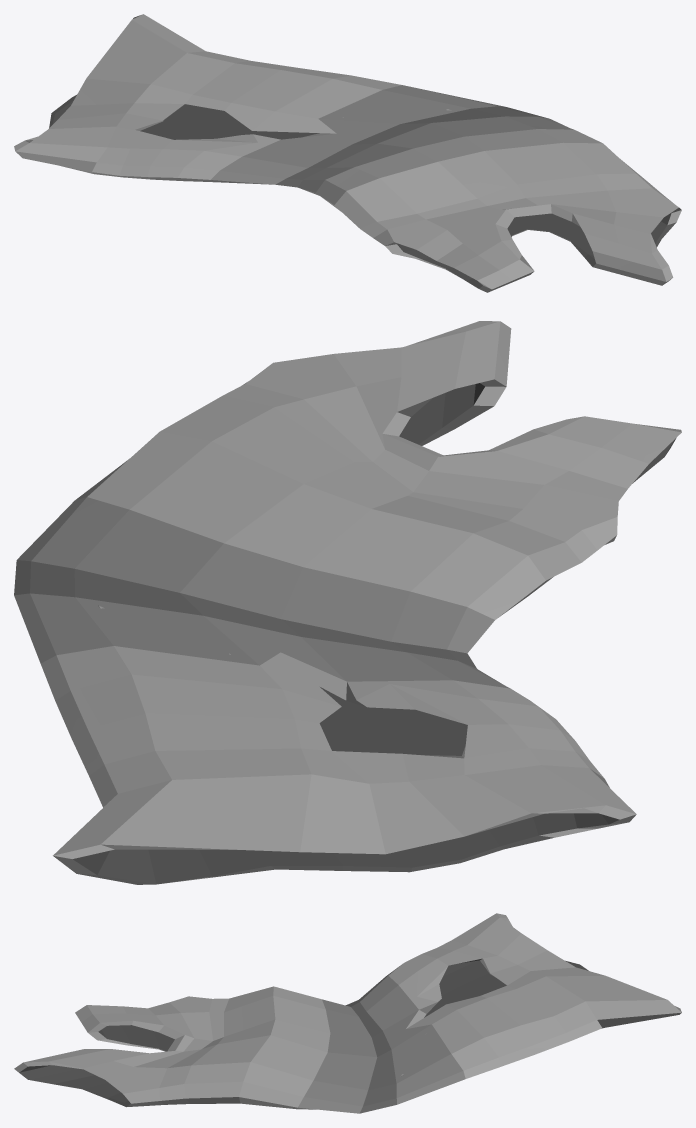
The model's file is TornDressModel.fbx.
3 renders of one model, top to bottom at view 1: azimuth 30°, elevation 25°; view 2: azimuth 150°, elevation 25°; view 3: azimuth 270°, elevation 25°, orthographic. The views are drawn at different scales.
Parts seen in each view (by area): view 1: TornDressModel; view 2: TornDressModel; view 3: TornDressModel.
Boxes of the visible parts, x1,y1,x2,y2 form: TornDressModel: (14, 14, 681, 292); TornDressModel: (14, 321, 681, 884); TornDressModel: (14, 913, 681, 1113).
Size of the model in its own units: 120 by 9.9 by 183.
